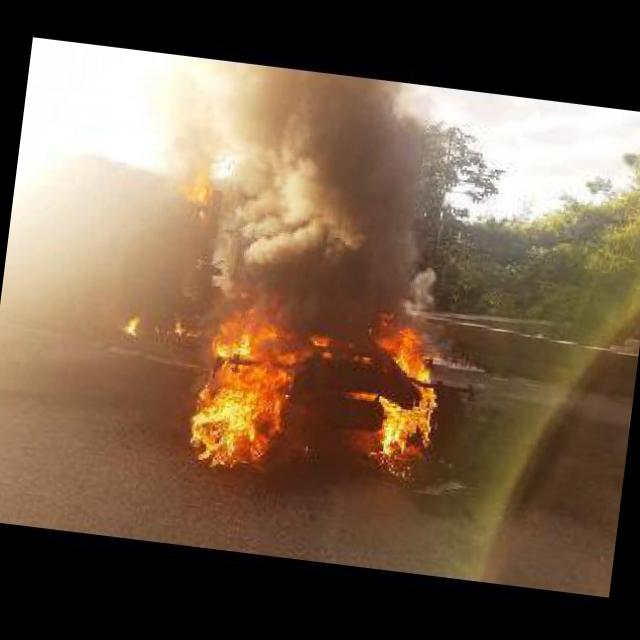fire: (188, 300, 302, 473), (349, 311, 449, 484), (185, 168, 213, 202), (306, 334, 339, 358), (113, 312, 140, 333)
smoke: (198, 63, 473, 338)
